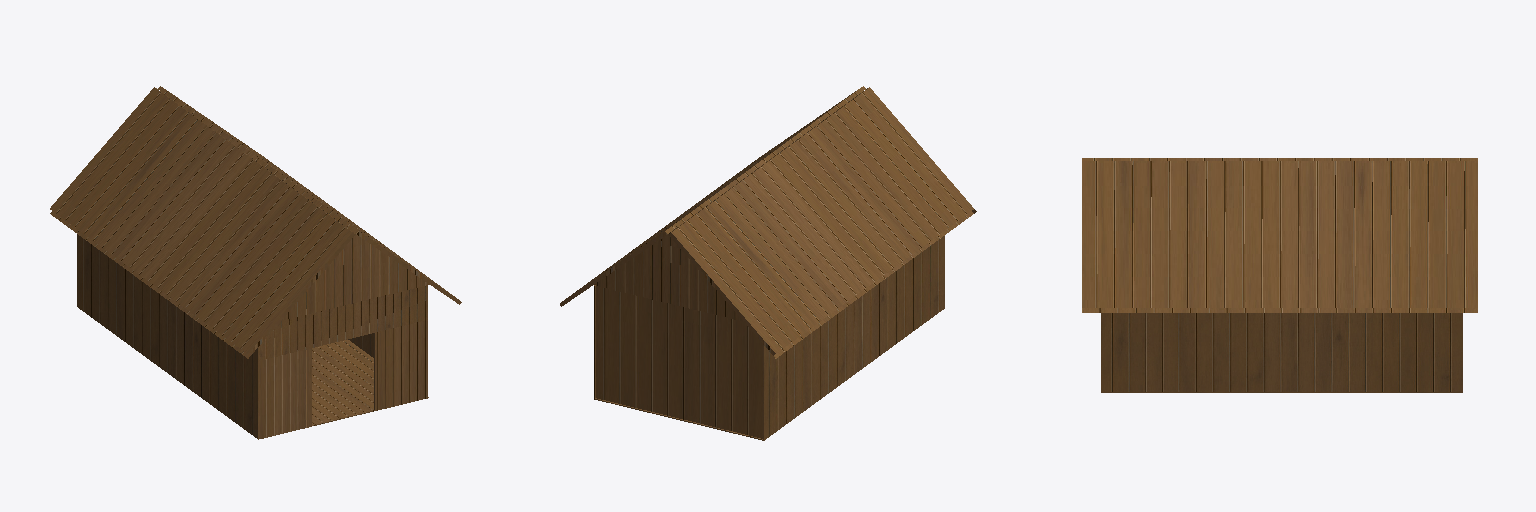
3 renders of one model, left to right at view 1: azimuth 30°, elevation 25°; view 2: azimuth 150°, elevation 25°; view 3: azimuth 270°, elevation 25°, orthographic.
Parts seen in each view (by area): view 1: TechoI, ParedI, Rotulo, FrontonD, Piso, ParedDD, ParedDI, TechoD; view 2: TechoI, ParedT, ParedI, FrontonTT, TechoD; view 3: TechoD, ParedD, TechoI.
Boxes of the visible parts, x1=… form: TechoI: x1=50, y1=87, x2=355, y2=358; ParedI: x1=77, y1=234, x2=258, y2=439; Rotulo: x1=259, y1=285, x2=427, y2=360; FrontonD: x1=281, y1=226, x2=429, y2=320; Piso: x1=312, y1=340, x2=428, y2=425; ParedDD: x1=374, y1=320, x2=427, y2=410; ParedDI: x1=259, y1=348, x2=311, y2=438; TechoD: x1=158, y1=86, x2=461, y2=304; TechoI: x1=668, y1=87, x2=976, y2=358; ParedT: x1=596, y1=286, x2=762, y2=438; ParedI: x1=763, y1=236, x2=944, y2=440; FrontonTT: x1=594, y1=226, x2=742, y2=321; TechoD: x1=560, y1=86, x2=865, y2=306; TechoD: x1=1082, y1=161, x2=1477, y2=312; ParedD: x1=1101, y1=313, x2=1462, y2=391; TechoI: x1=1082, y1=158, x2=1477, y2=160.
Bounding box in the file's own units: 24.87 × 20.96 × 38.94.
1 materials, 1 textured.